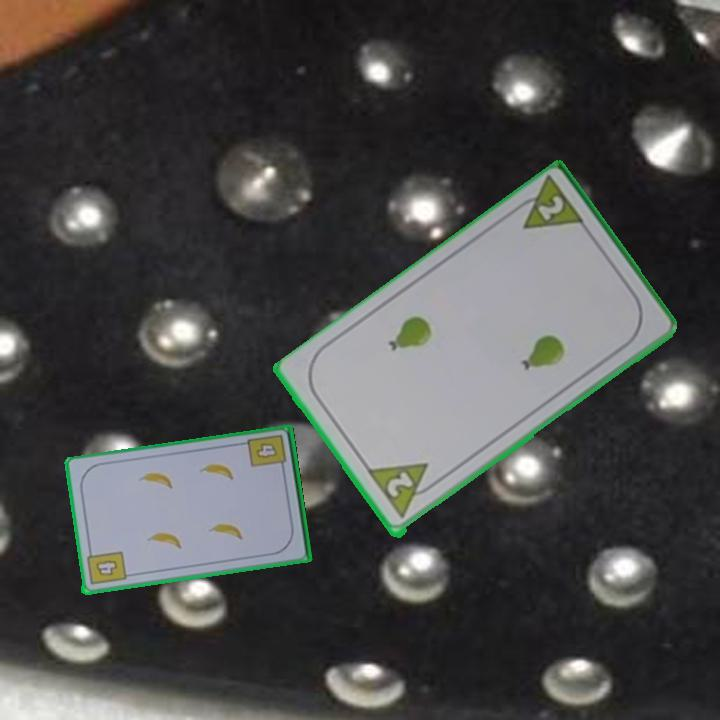2p: (382, 468, 416, 502), (533, 192, 567, 225)
4b: (83, 545, 128, 588), (252, 439, 280, 462)
